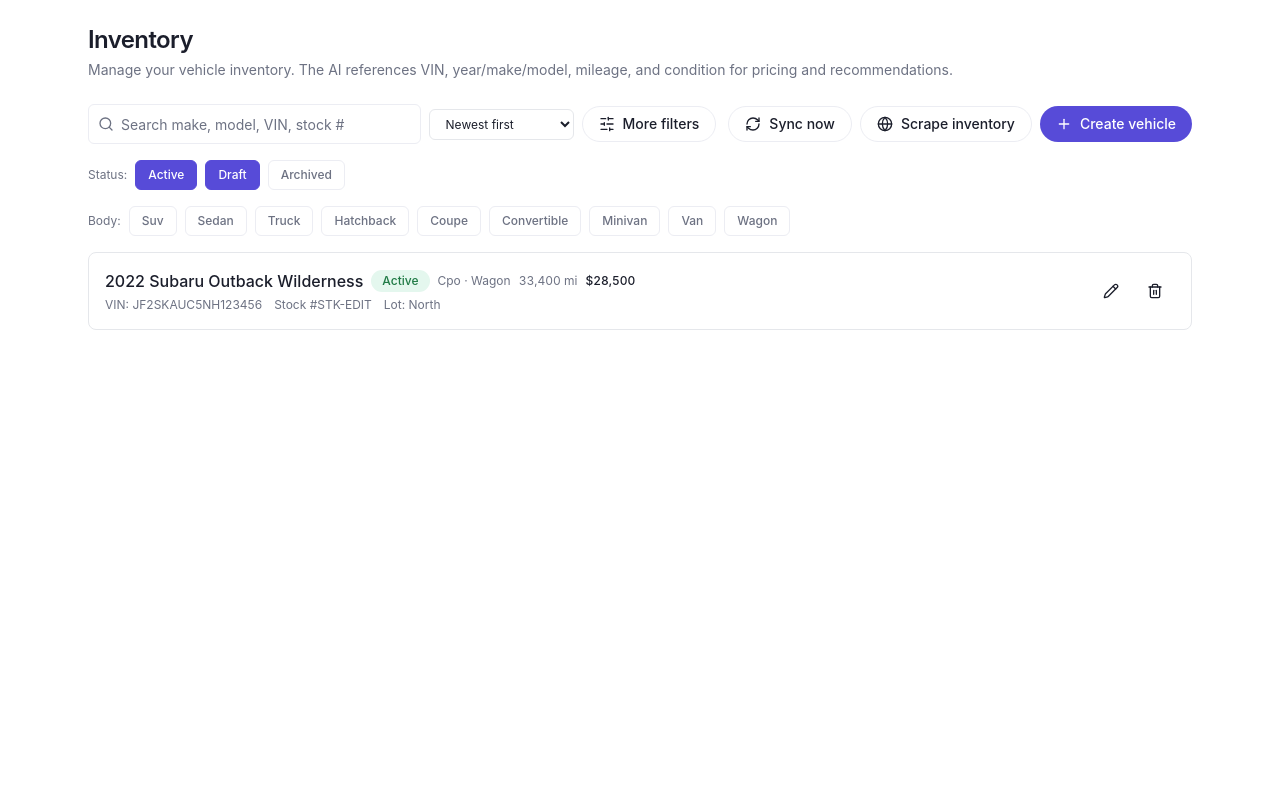
Scenario: KAN-1217 Scenario 4 — edit pre-fill › pre-fills edit form with the clicked vehicle fields
The image size is (1280, 800).
Expected: the text "2022 Subaru Outback Wilderness" is shown, [105,269,363,293]
Click the button named "edit 2022 subaru outback". click: click(1111, 291)
box: [1091,271,1131,311]
(page scrolled)
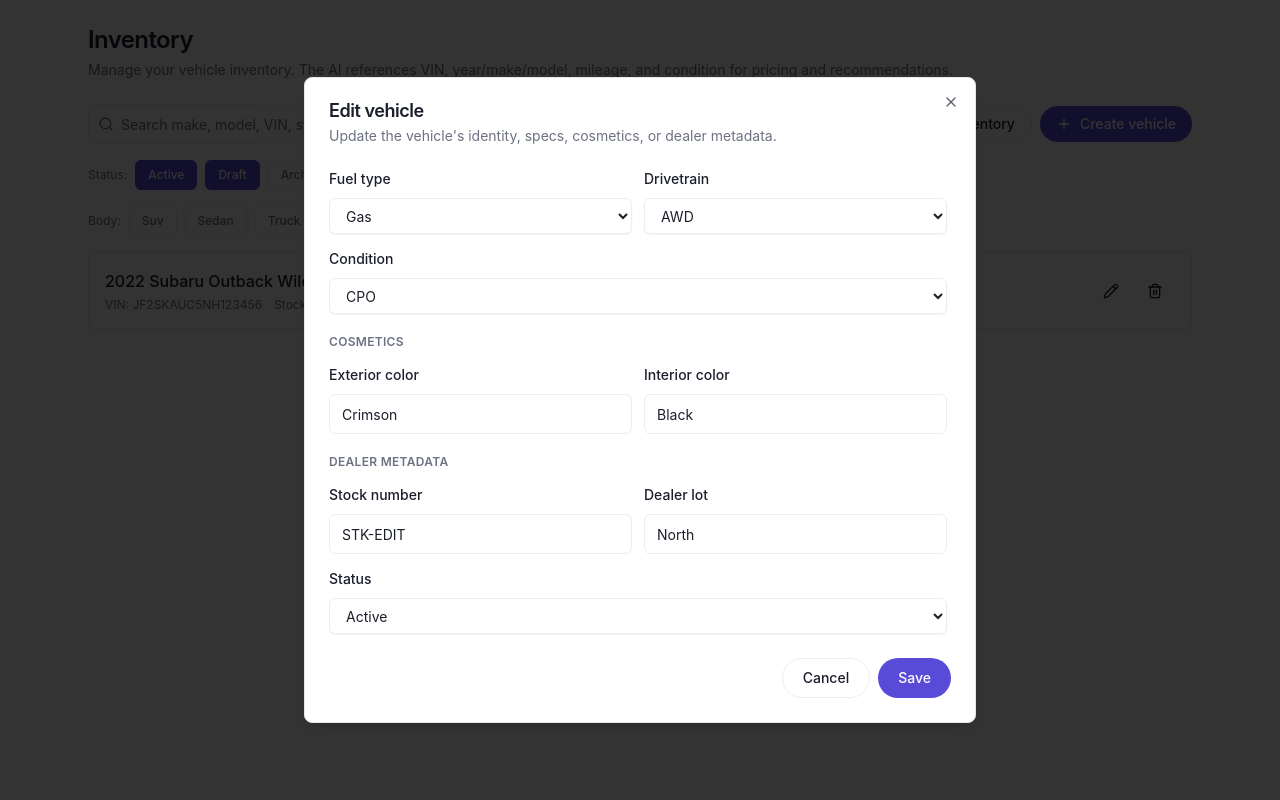
Expected: the dropdown labelled "Drivetrain" shows "AWD", [644,198,947,234]
Expected: the dropdown labelled "Condition" shows "CPO", [329,278,947,314]
Expected: the field labelled "Stock number" holds "STK-EDIT", [329,514,632,554]
